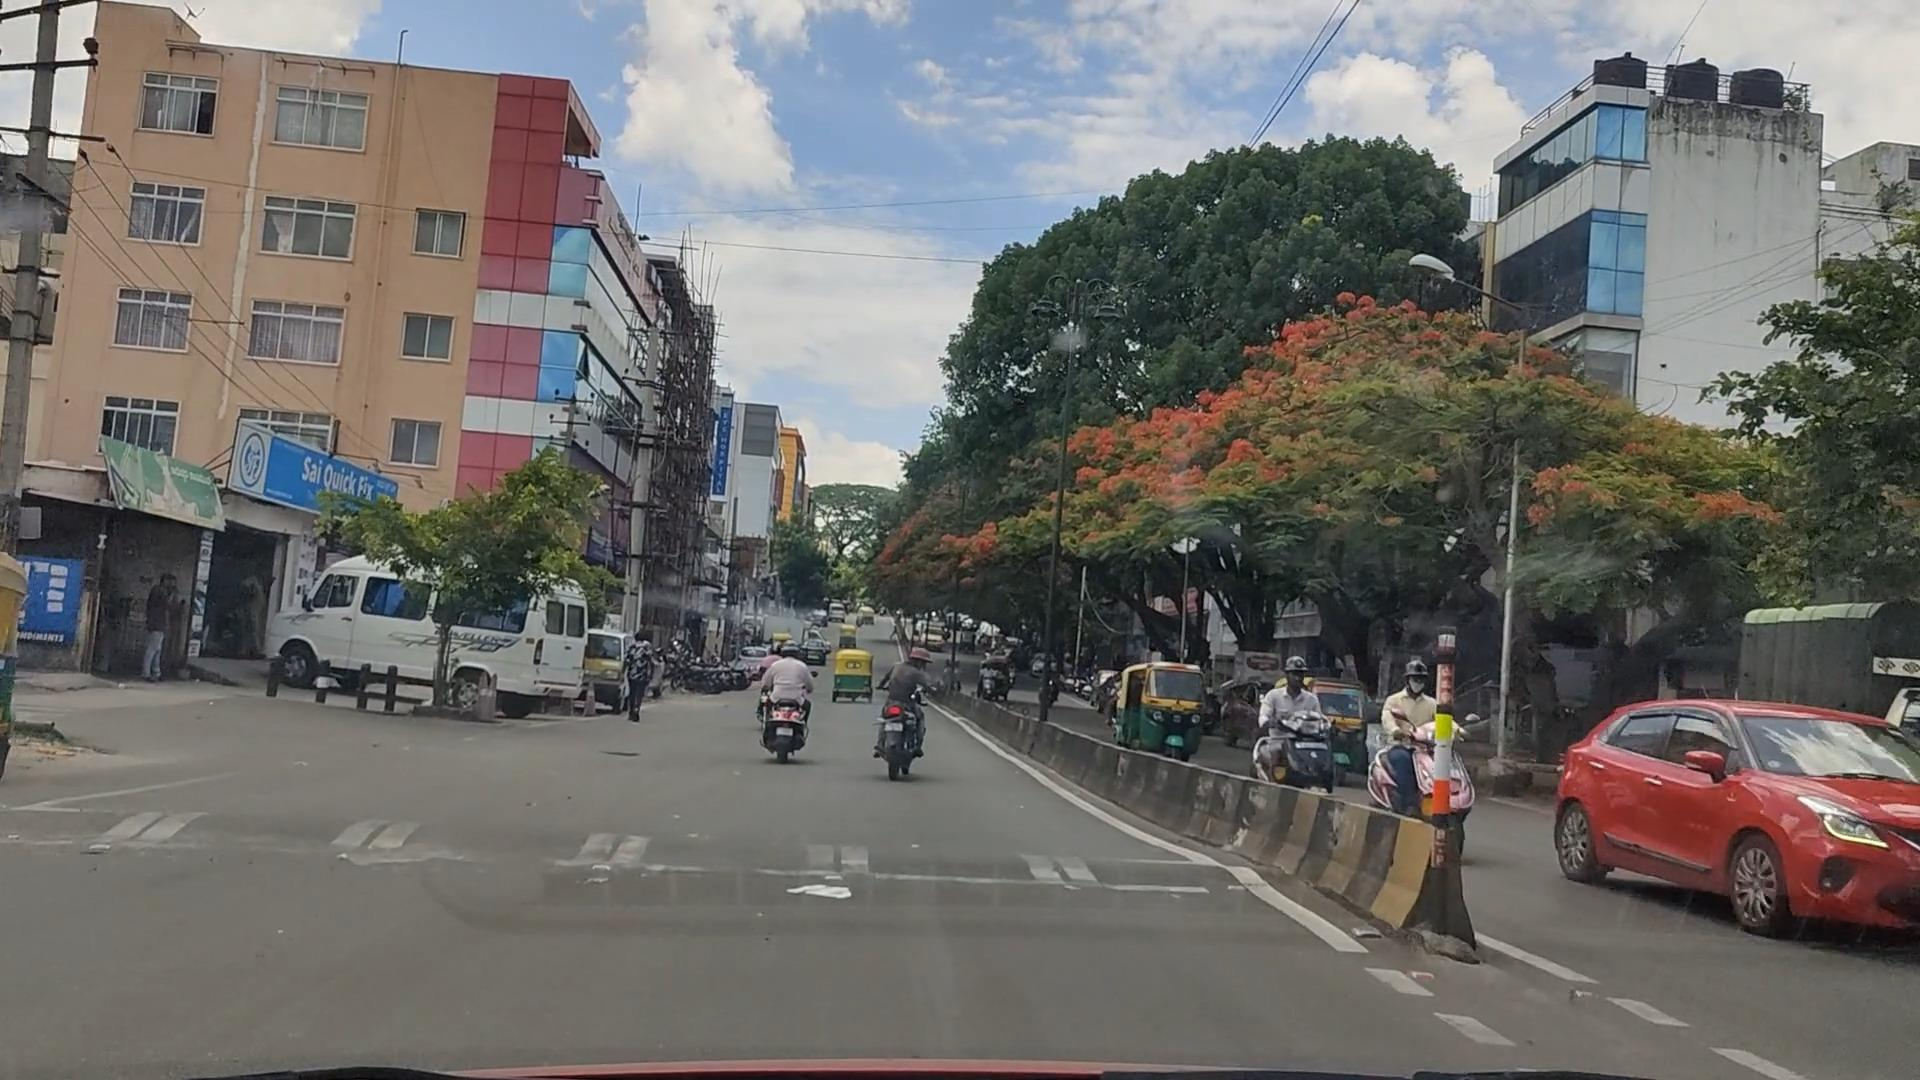SpeedBump: (16, 818, 1298, 905)
